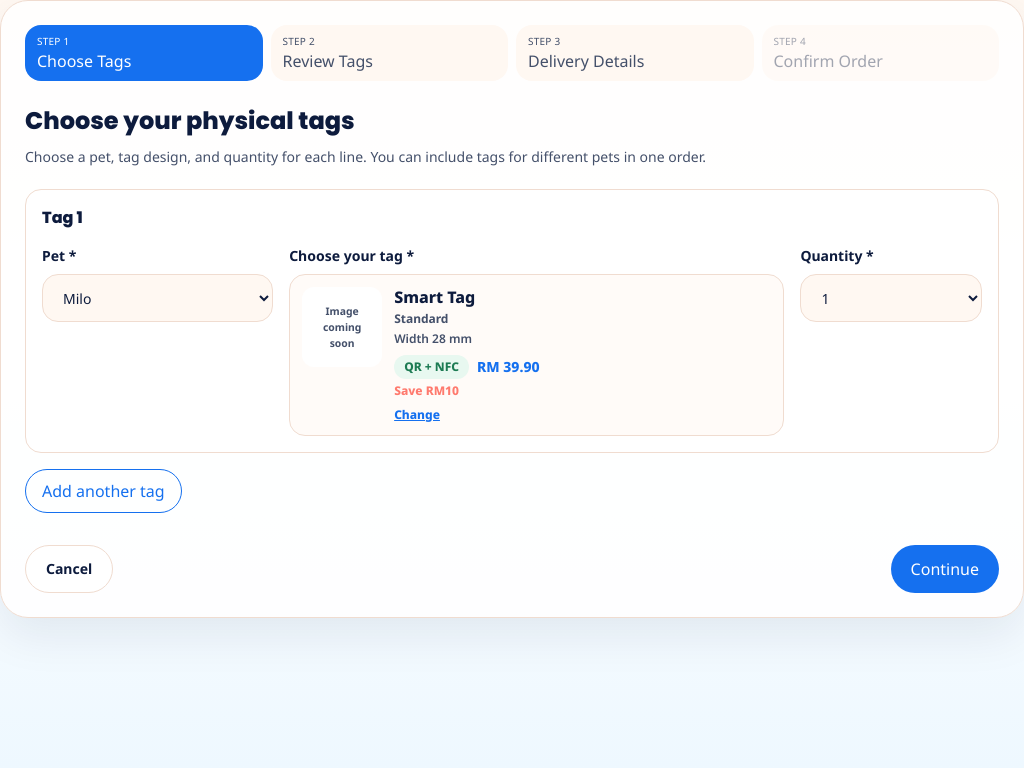
TagOrderFlow catalog pricing › omits absent details and shows a partial size without substituting measurements
Expected: the text "Width 28 mm" is shown, [394, 330, 472, 347]
Click the button with aria-label "Change tag for Tag 1" at (537, 355), box [289, 274, 784, 436]
(page scrolled)
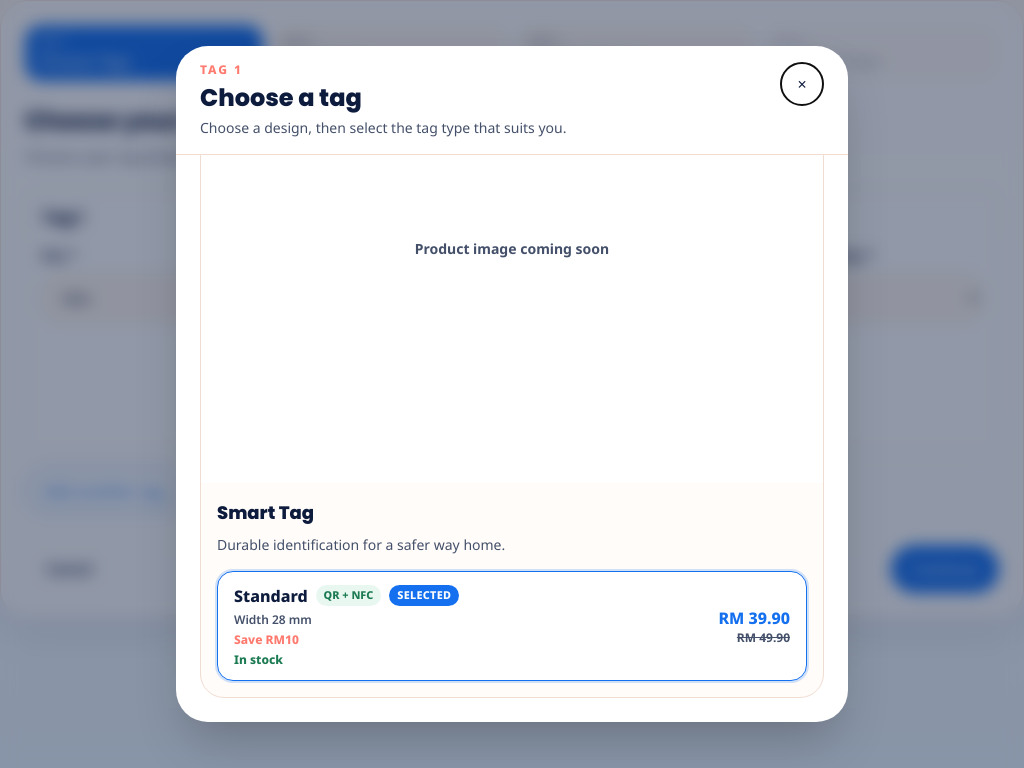
Result: the text "Width 28 mm" is shown at [234, 611, 312, 628]
